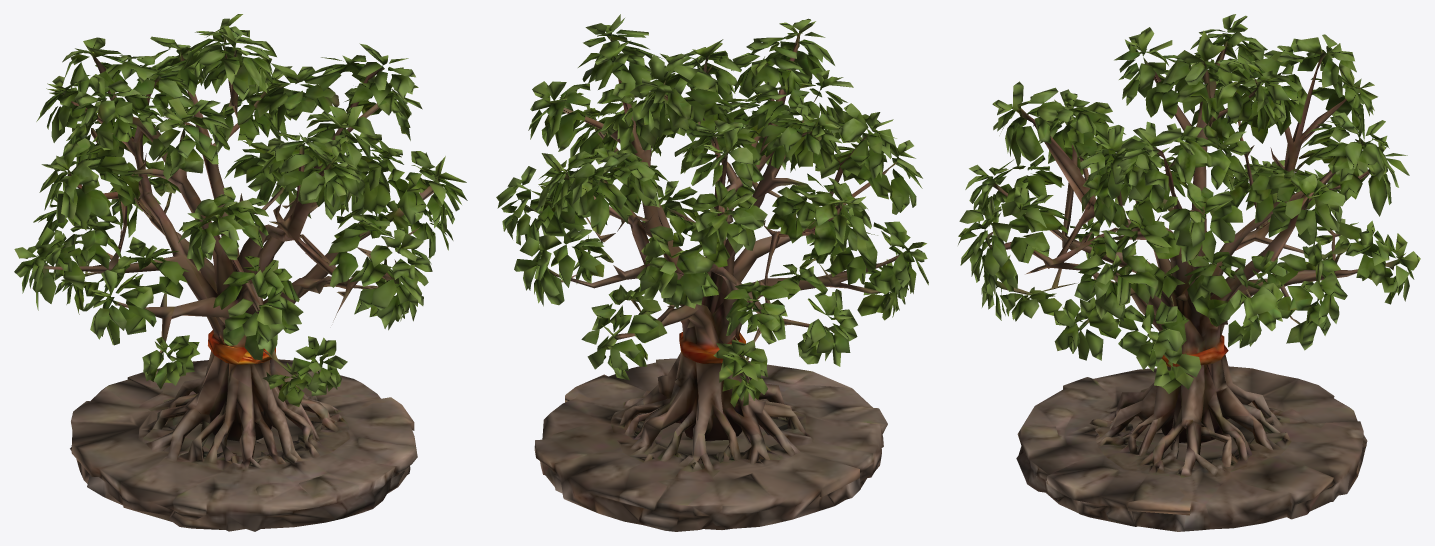
Rendered from peepal-lod.glb.
3 views of the same model, side by side, from view 1: azimuth 30°, elevation 25°; view 2: azimuth 150°, elevation 25°; view 3: azimuth 270°, elevation 25° (orthographic).
Visible parts, largest first — view 1: tripo_node_7ecb94f6-45de-4725-a891-7aaafe77963f; view 2: tripo_node_7ecb94f6-45de-4725-a891-7aaafe77963f; view 3: tripo_node_7ecb94f6-45de-4725-a891-7aaafe77963f.
Boxes of the visible parts, <box> form: tripo_node_7ecb94f6-45de-4725-a891-7aaafe77963f: <box>14,14,467,531</box>; tripo_node_7ecb94f6-45de-4725-a891-7aaafe77963f: <box>496,14,928,531</box>; tripo_node_7ecb94f6-45de-4725-a891-7aaafe77963f: <box>958,14,1420,531</box>.
Size of the model in its own units: 0.9147 by 0.9963 by 0.9903.
Materials: 1 (1 with a texture image).
